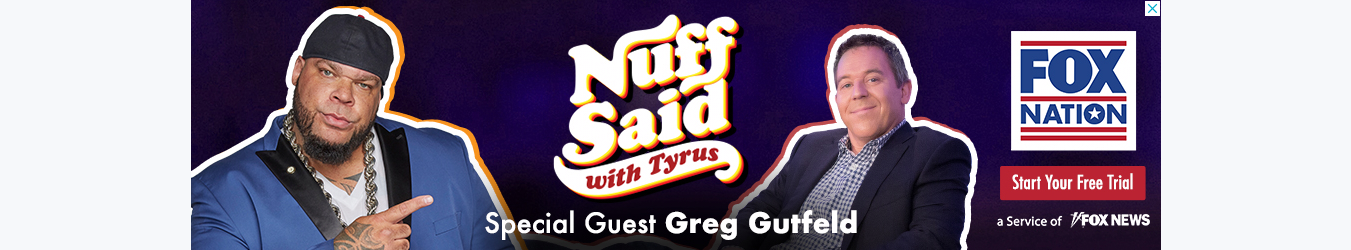fake_button: (993, 157, 1153, 207)
